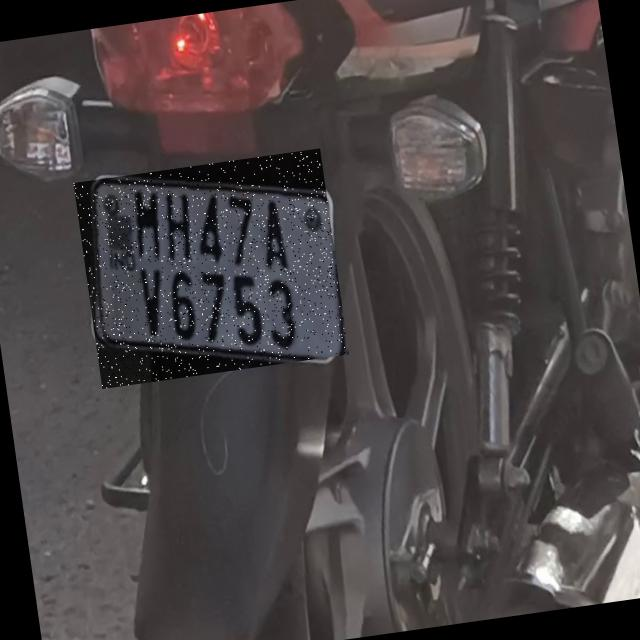Plate: (75, 150, 351, 391)
